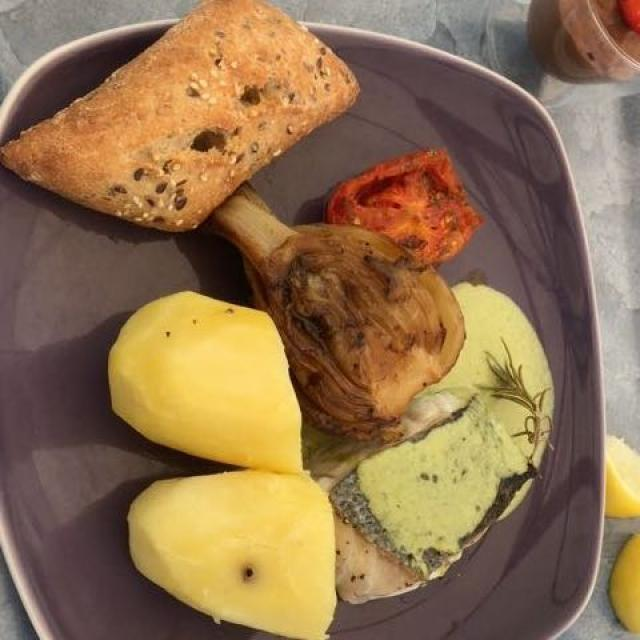bread: (20, 11, 375, 264)
cake: (198, 184, 487, 462)
fish: (305, 371, 545, 600)
potatoes: (114, 293, 361, 627)
tomato: (327, 144, 471, 280)
